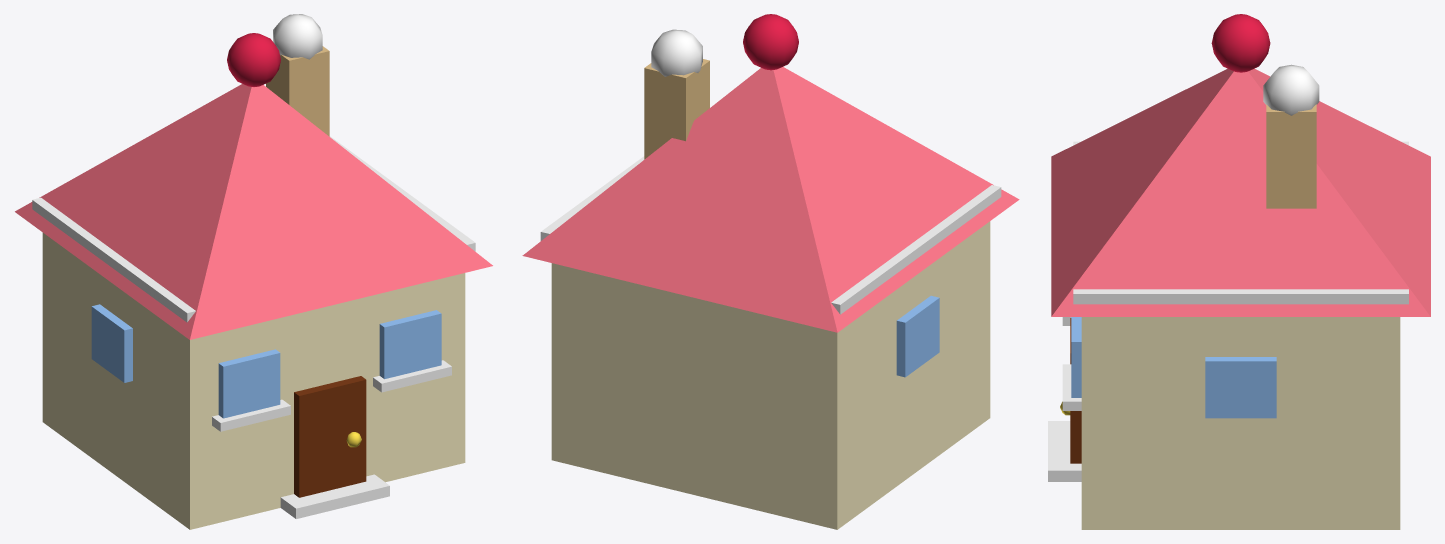
File: build-house.glb
3 views of the same model, side by side, from view 1: azimuth 30°, elevation 25°; view 2: azimuth 150°, elevation 25°; view 3: azimuth 270°, elevation 25° (orthographic). The views are drawn at different scales.
Visible parts, largest first — view 1: build-house; view 2: build-house; view 3: build-house.
Part boxes in pixels (x1,y1,x2,y2): build-house: (15,14,492,529); build-house: (522,14,1019,529); build-house: (1048,14,1430,529).
Bounding box in the file's own units: 0.9051 × 1.16 × 0.9125.
1 material, 1 textured.
